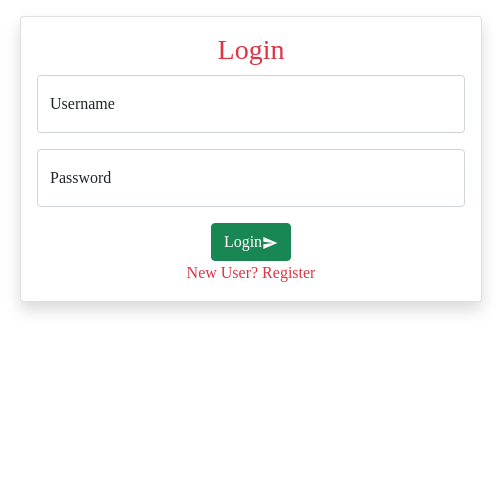
Scenario: should check proper error message is displayed when fields are empty
The width and height of the screenshot is (503, 479).
// Finding and clicking on login button
Click the button "Login": (251, 242) [211,223,291,261]
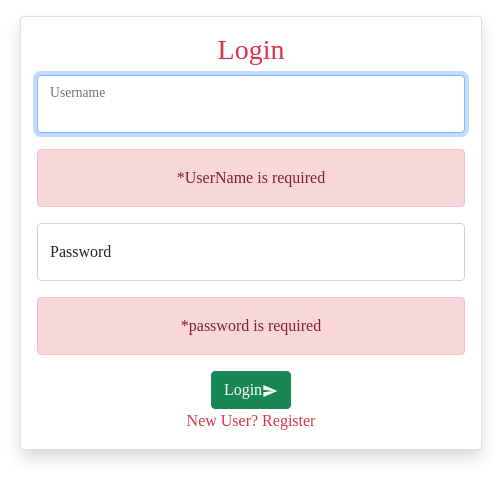
Check: the text "*UserName is required" is shown 2 times, box [37,149,465,207]; [37,297,465,355]
